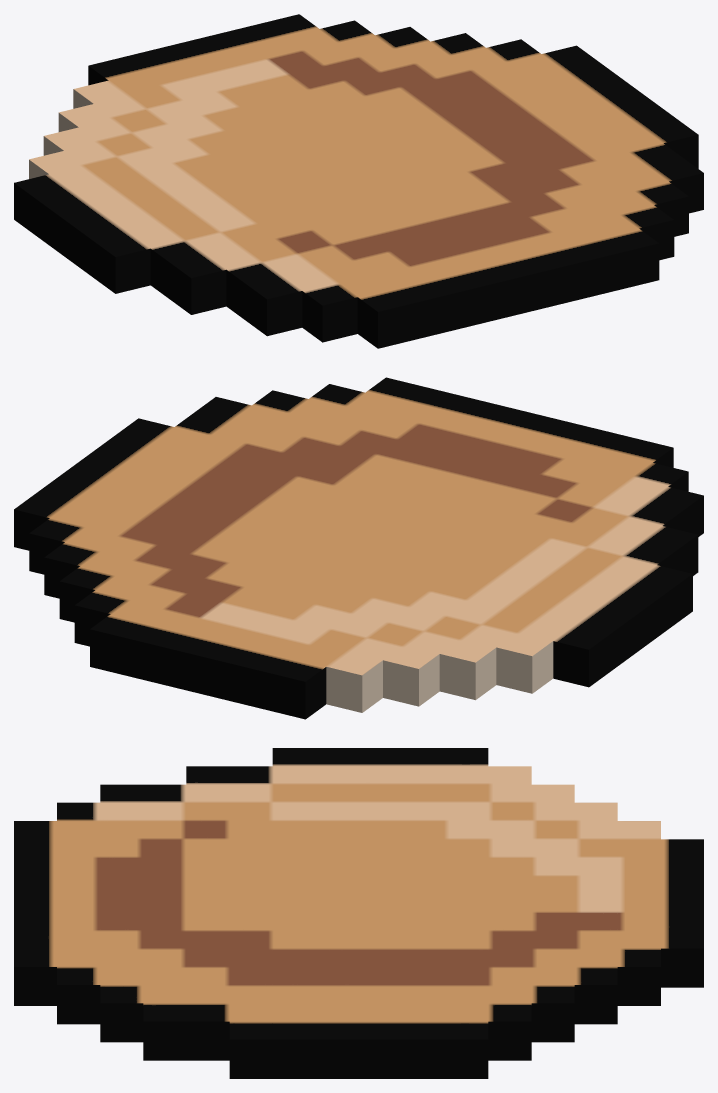
File: coin.fbx
3 renders of one model, top to bottom at view 1: azimuth 30°, elevation 25°; view 2: azimuth 150°, elevation 25°; view 3: azimuth 270°, elevation 25°, orthographic. The views are drawn at different scales.
Parts seen in each view (by area): view 1: coin; view 2: coin; view 3: coin.
Boxes of the visible parts, x1,y1,x2,y2 form: coin: (14, 14, 703, 348); coin: (14, 377, 703, 719); coin: (14, 748, 703, 1078).
Size of the model in its own units: 8 by 0.5 by 8.
3 materials, 1 textured.
